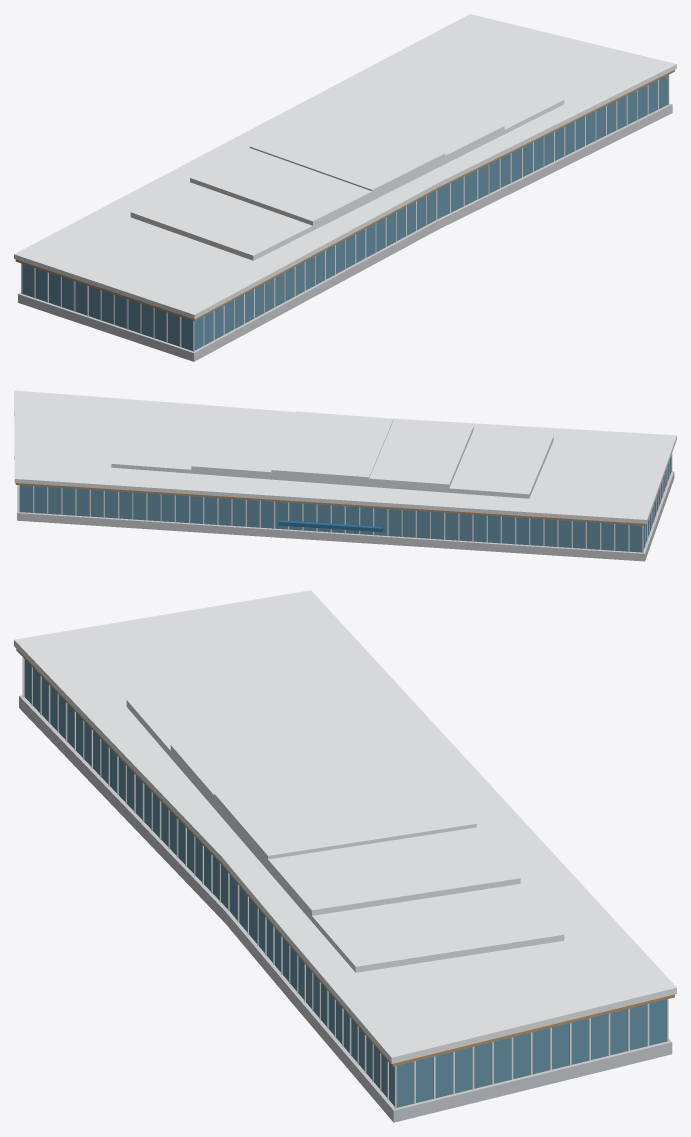
The model's file is taichung-icce.glb.
3 views of the same model, one above another, from view 1: azimuth 30°, elevation 25°; view 2: azimuth 150°, elevation 25°; view 3: azimuth 270°, elevation 25° (orthographic). The views are drawn at different scales.
Visible parts, largest first — view 1: taichung-icce; view 2: taichung-icce; view 3: taichung-icce.
Part boxes in pixels (x1,y1,x2,y2): taichung-icce: (14, 14, 676, 361); taichung-icce: (14, 390, 676, 561); taichung-icce: (14, 590, 676, 1122).
Bounding box in the file's own units: 399 × 32.8 × 239.
